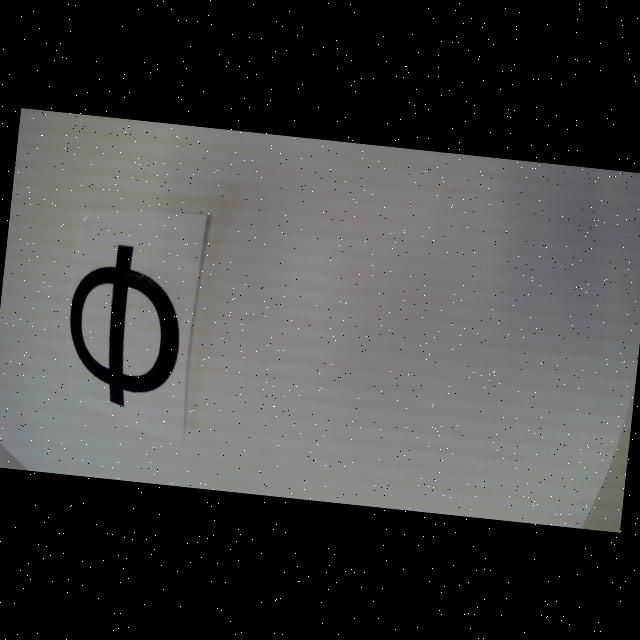PHI: (61, 238, 188, 411)
